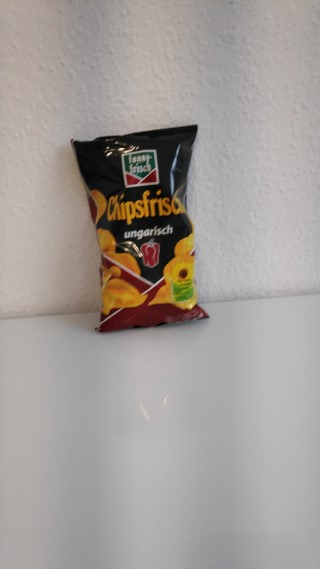chipsfrisch: (68, 124, 212, 335)
